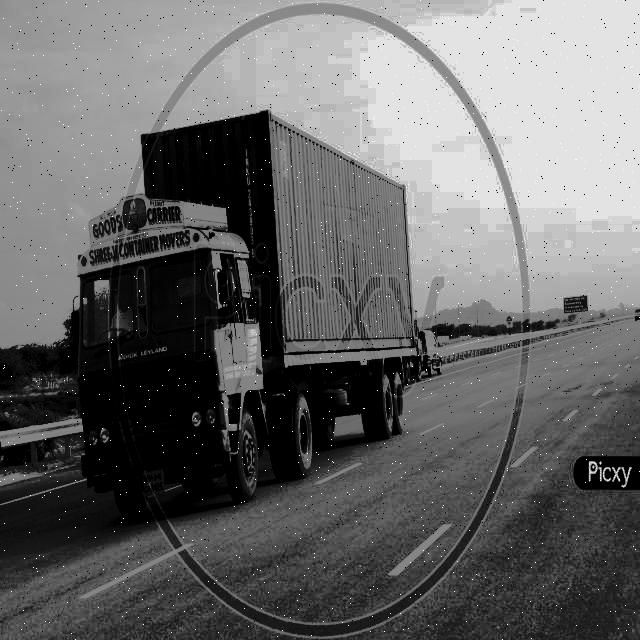HCV: (50, 93, 442, 532)
